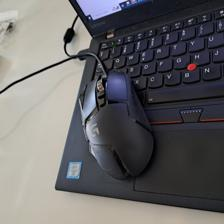mouse: (75, 69, 156, 181)
